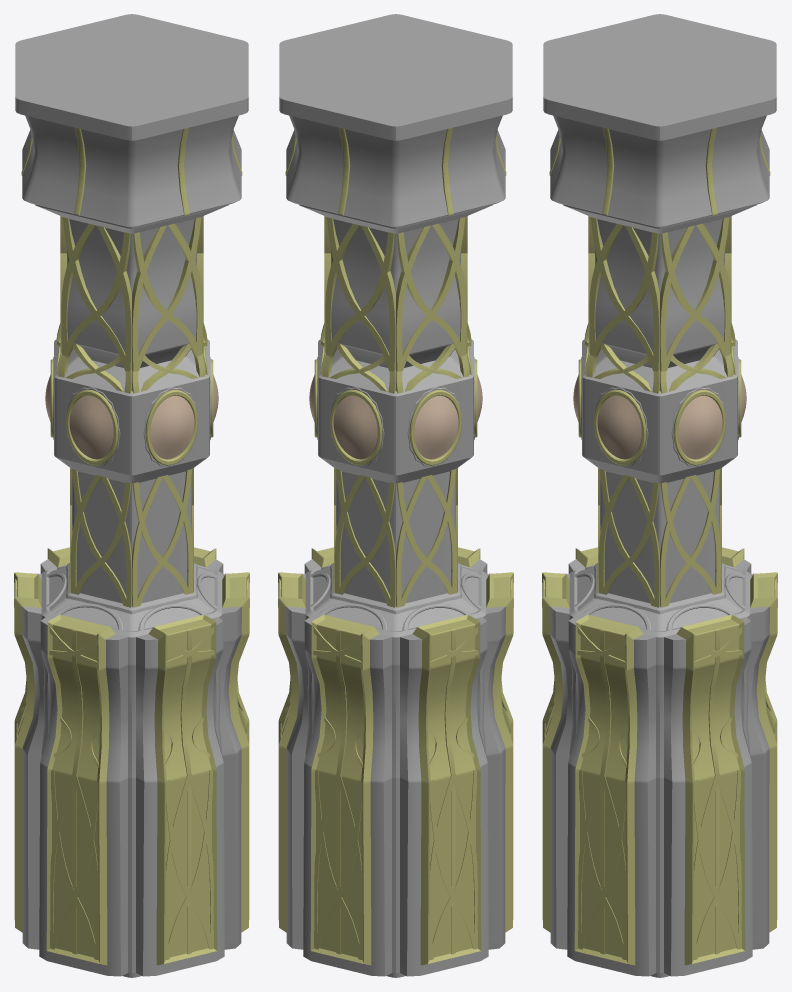
File: SM_Tristesse_Pilonne_01_MID.fbx
The picture shows the model from 3 angles, left to right: view 1: azimuth 30°, elevation 25°; view 2: azimuth 150°, elevation 25°; view 3: azimuth 270°, elevation 25°; orthographic projection.
Parts seen in each view (by area): view 1: SM_Pierre, SM_Or, SM_Ambre; view 2: SM_Pierre, SM_Or, SM_Ambre; view 3: SM_Pierre, SM_Or, SM_Ambre.
Boxes of the visible parts, bbox=[...] form: SM_Pierre: bbox=[15, 14, 248, 977]; SM_Or: bbox=[14, 127, 249, 965]; SM_Ambre: bbox=[45, 375, 218, 459]; SM_Pierre: bbox=[279, 14, 512, 977]; SM_Or: bbox=[278, 127, 513, 965]; SM_Ambre: bbox=[309, 375, 482, 459]; SM_Pierre: bbox=[543, 14, 776, 977]; SM_Or: bbox=[542, 127, 777, 965]; SM_Ambre: bbox=[573, 375, 746, 459].
Bounding box in the file's own units: 135 × 486 × 120.
